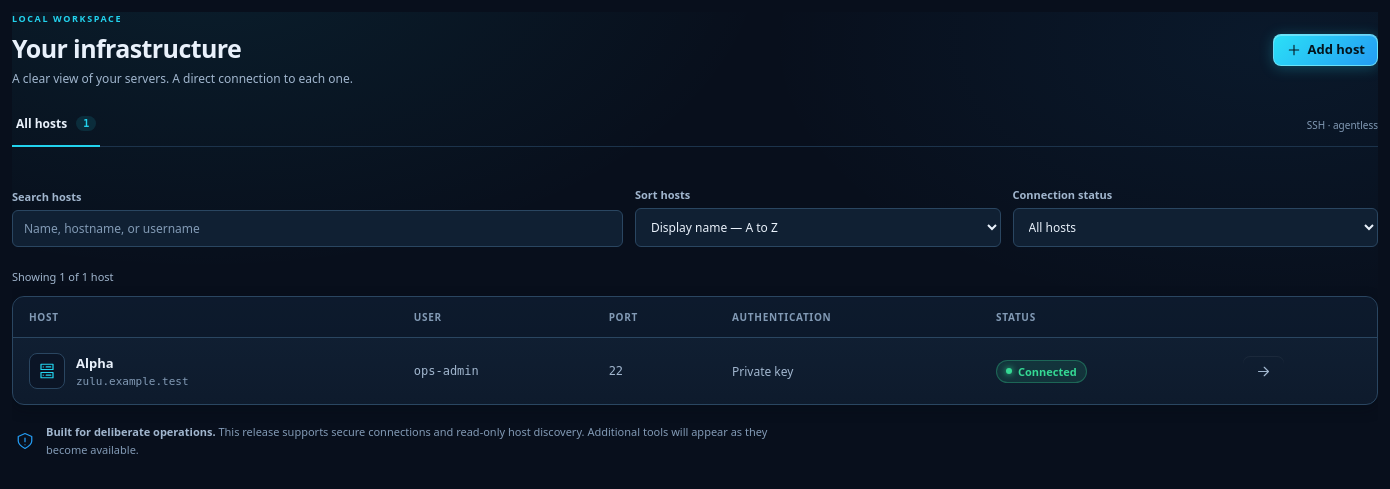
Test: backend session observations and local status filters › treats a failed refresh as unknown even when the cache retains a connected snapshot
Later steps or results of the test are not shown.
Select "Connected" in the dropdown labelled "Connection status": (1195,228) [1012,208,1378,247]
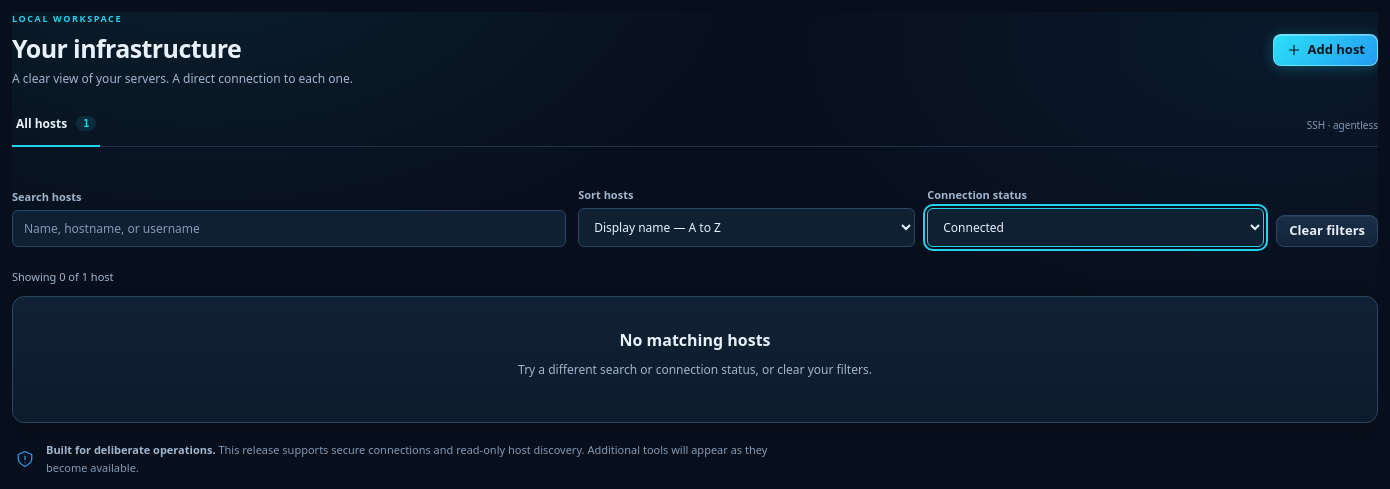
Expected: the heading "No matching hosts" is shown, [620,329,771,351]
